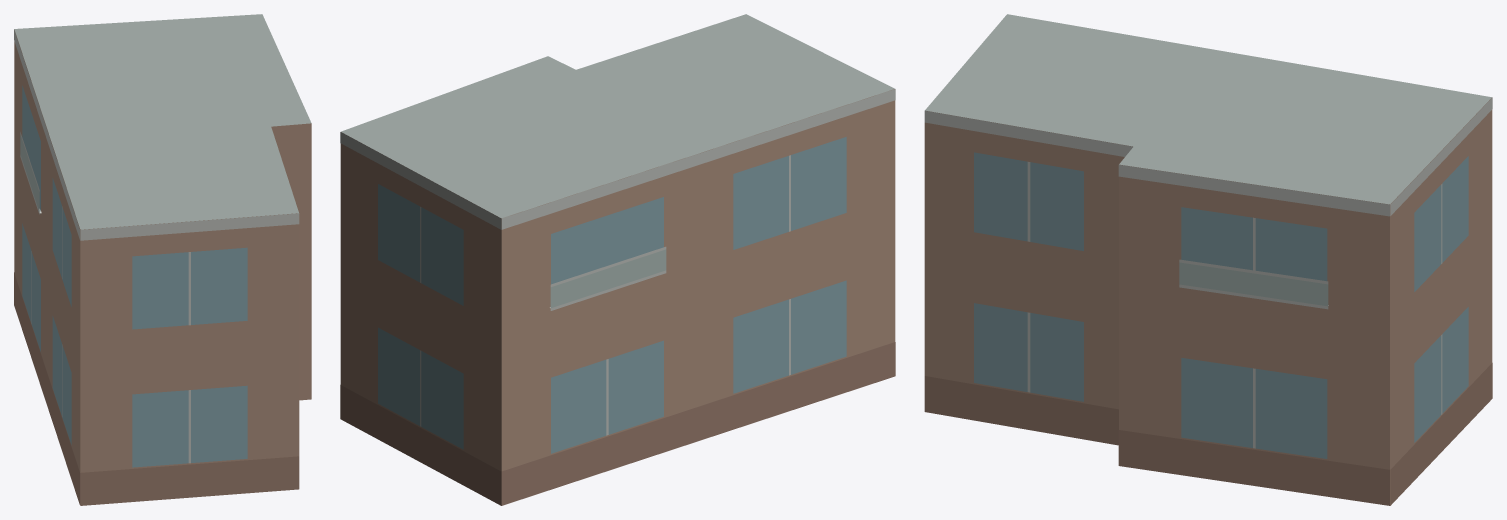
The model's file is survey-upis-32818279.glb.
3 renders of one model, left to right at view 1: azimuth 30°, elevation 25°; view 2: azimuth 150°, elevation 25°; view 3: azimuth 270°, elevation 25°, orthographic. The views are drawn at different scales.
Parts seen in each view (by area): view 1: survey-upis-32818279.tmp; view 2: survey-upis-32818279.tmp; view 3: survey-upis-32818279.tmp.
Part boxes in pixels (<box>): survey-upis-32818279.tmp: <box>14,14,311,505</box>; survey-upis-32818279.tmp: <box>340,14,895,505</box>; survey-upis-32818279.tmp: <box>924,14,1492,505</box>.
Bounding box in the file's own units: 8.28 × 6.1 × 10.42.
